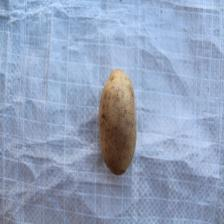Diseased-fungal potato: (92, 63, 138, 175)
